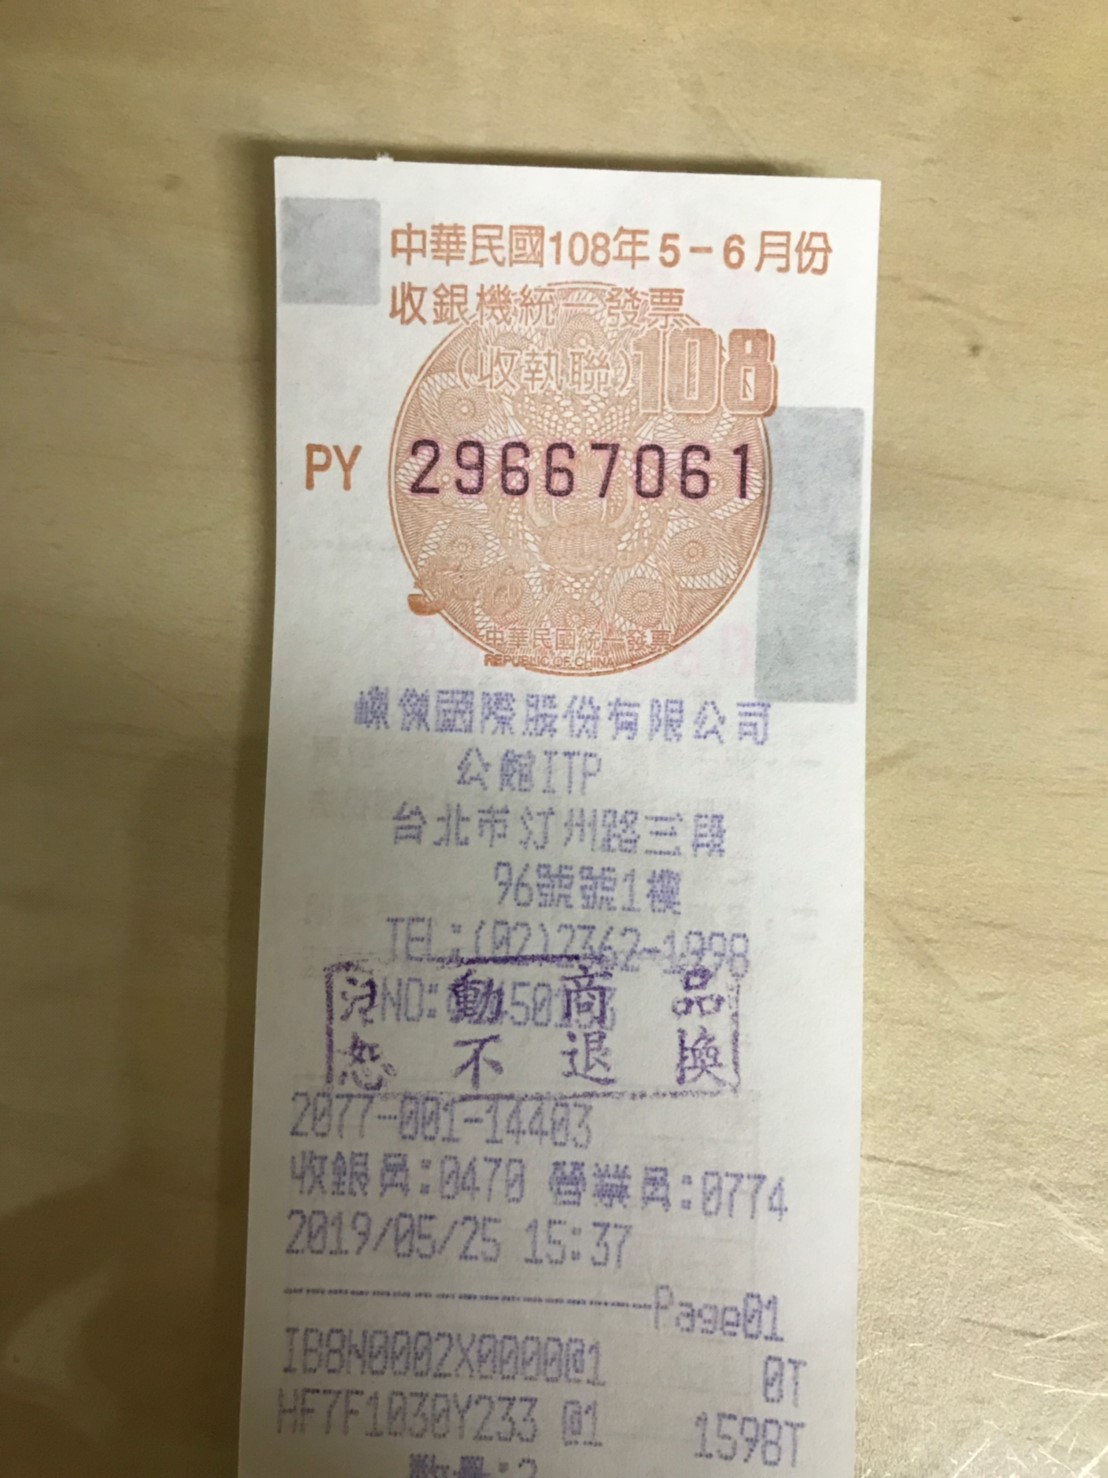Date_Old: (551, 218, 841, 277)
Number_Old: (405, 434, 754, 504)
